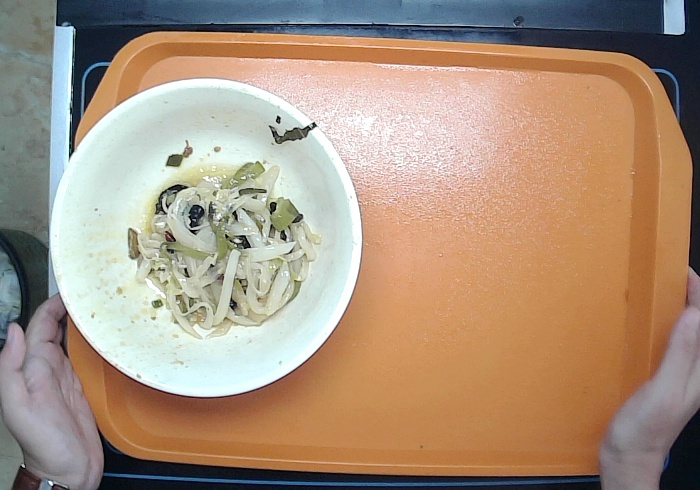ZNLD-Da_Tang_Wan: (42, 75, 364, 406)
